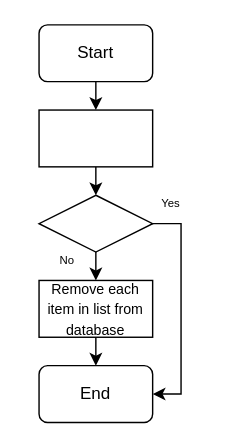
The diagram is 237 pixels wide and 447 high, and some of its shapes have lost their labels. Each missing label, with the centre of its shape:
Identify all checked tasks in a list: the point at 95,138
Is list empty?: the point at 95,223
